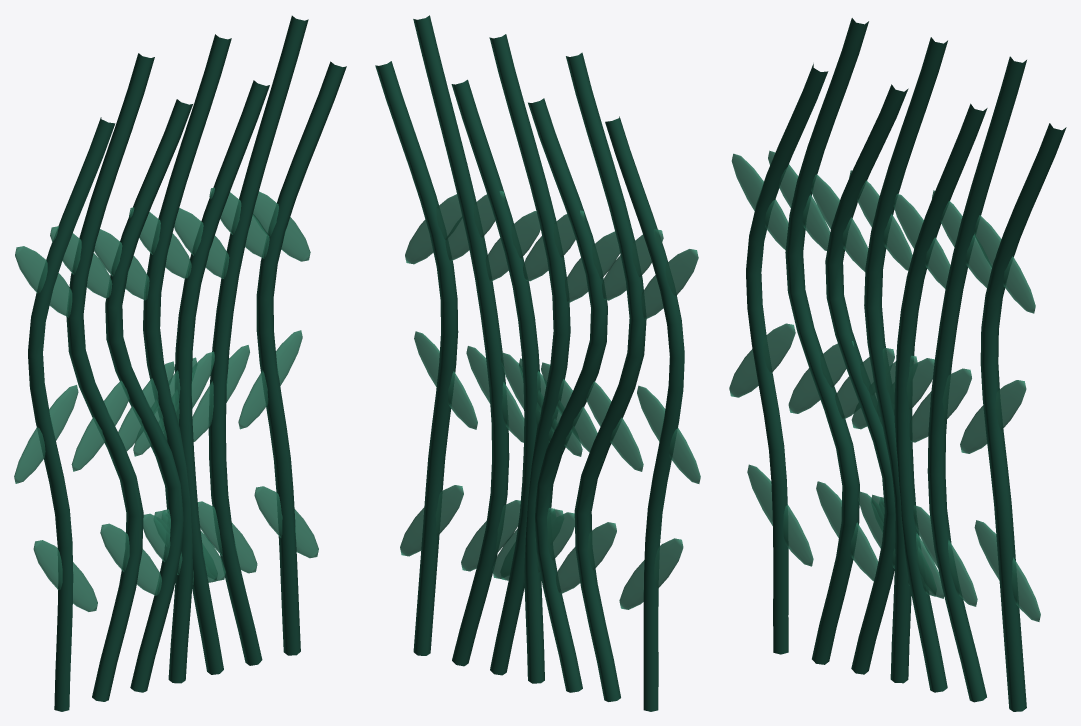
Rendered from kelp.glb.
3 views of the same model, side by side, from view 1: azimuth 30°, elevation 25°; view 2: azimuth 150°, elevation 25°; view 3: azimuth 330°, elevation 25° (orthographic). The views are drawn at different scales.
Visible parts, largest first — view 1: kelp_stem (×7), kelp_leaf (×21); view 2: kelp_stem (×7), kelp_leaf (×21); view 3: kelp_stem (×7), kelp_leaf (×21).
Part boxes in pixels (x1,y1,x2,y2): kelp_stem (×7): [28, 15, 346, 711]; kelp_leaf (×21): [14, 187, 318, 611]; kelp_stem (×7): [375, 15, 684, 711]; kelp_leaf (×21): [400, 191, 700, 609]; kelp_stem (×7): [746, 18, 1066, 711]; kelp_leaf (×21): [729, 150, 1040, 621].
Size of the model in its own units: 1.54 by 2.87 by 0.1.
